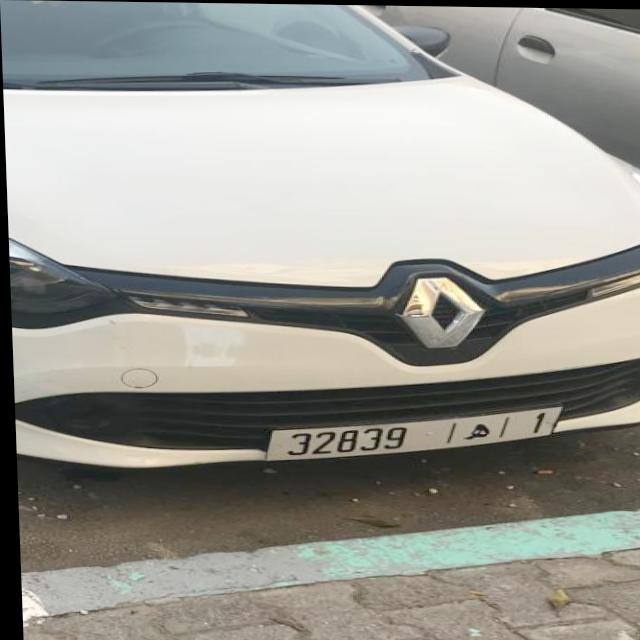License-Plate: (262, 405, 559, 459)
